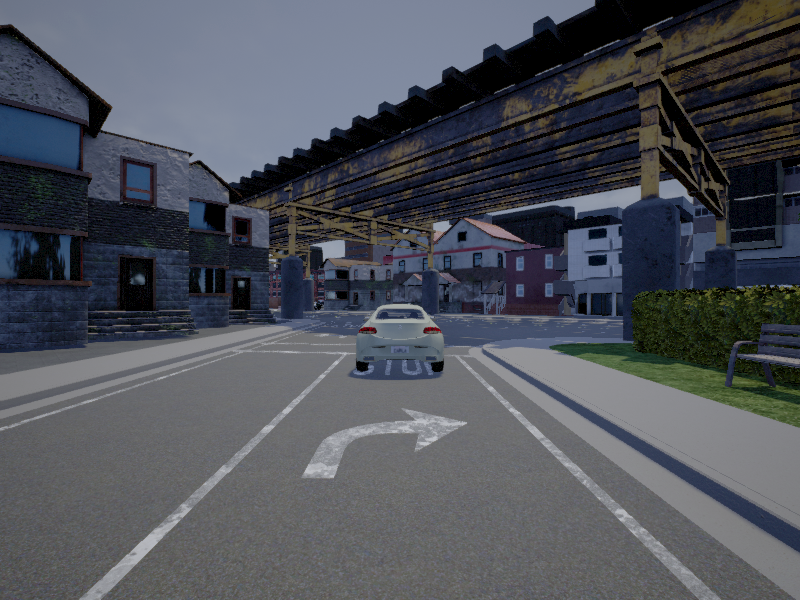Benign: (357, 304, 443, 374)
